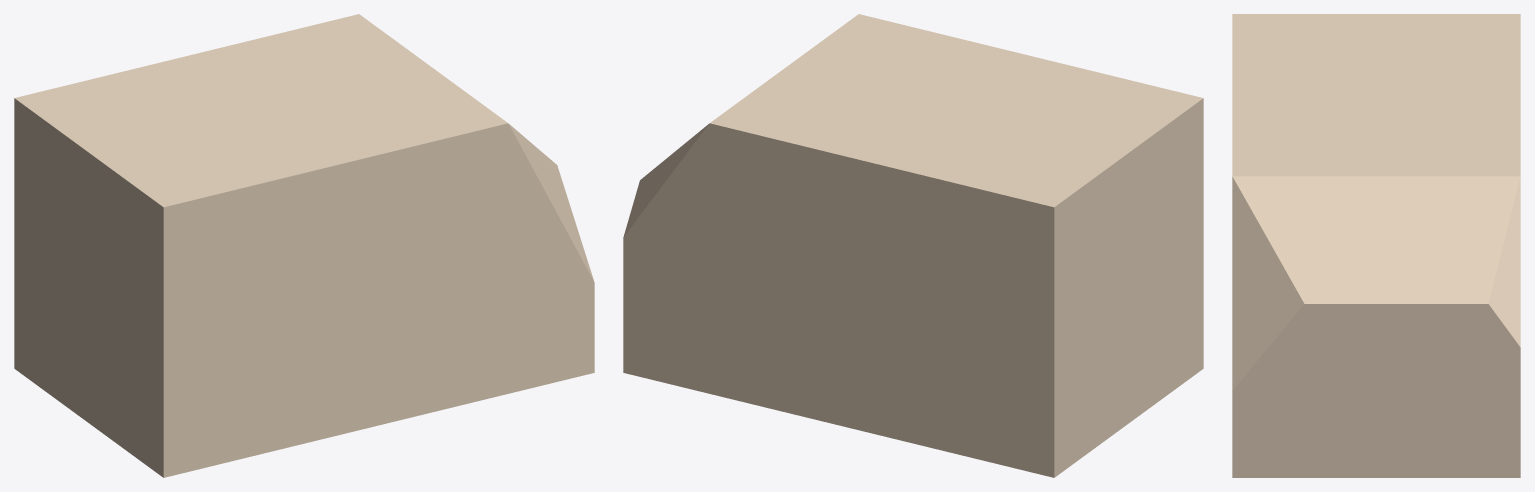
3 views of the same model, side by side, from view 1: azimuth 30°, elevation 25°; view 2: azimuth 150°, elevation 25°; view 3: azimuth 270°, elevation 25° (orthographic). The views are drawn at different scales.
Parts seen in each view (by area): view 1: object1.020; view 2: object1.020; view 3: object1.020.
Boxes of the visible parts, x1,y1,x2,y2 form: object1.020: (14, 14, 594, 477); object1.020: (623, 14, 1203, 477); object1.020: (1232, 14, 1520, 477).
Size of the model in its own units: 0.25 by 0.15 by 0.15.
